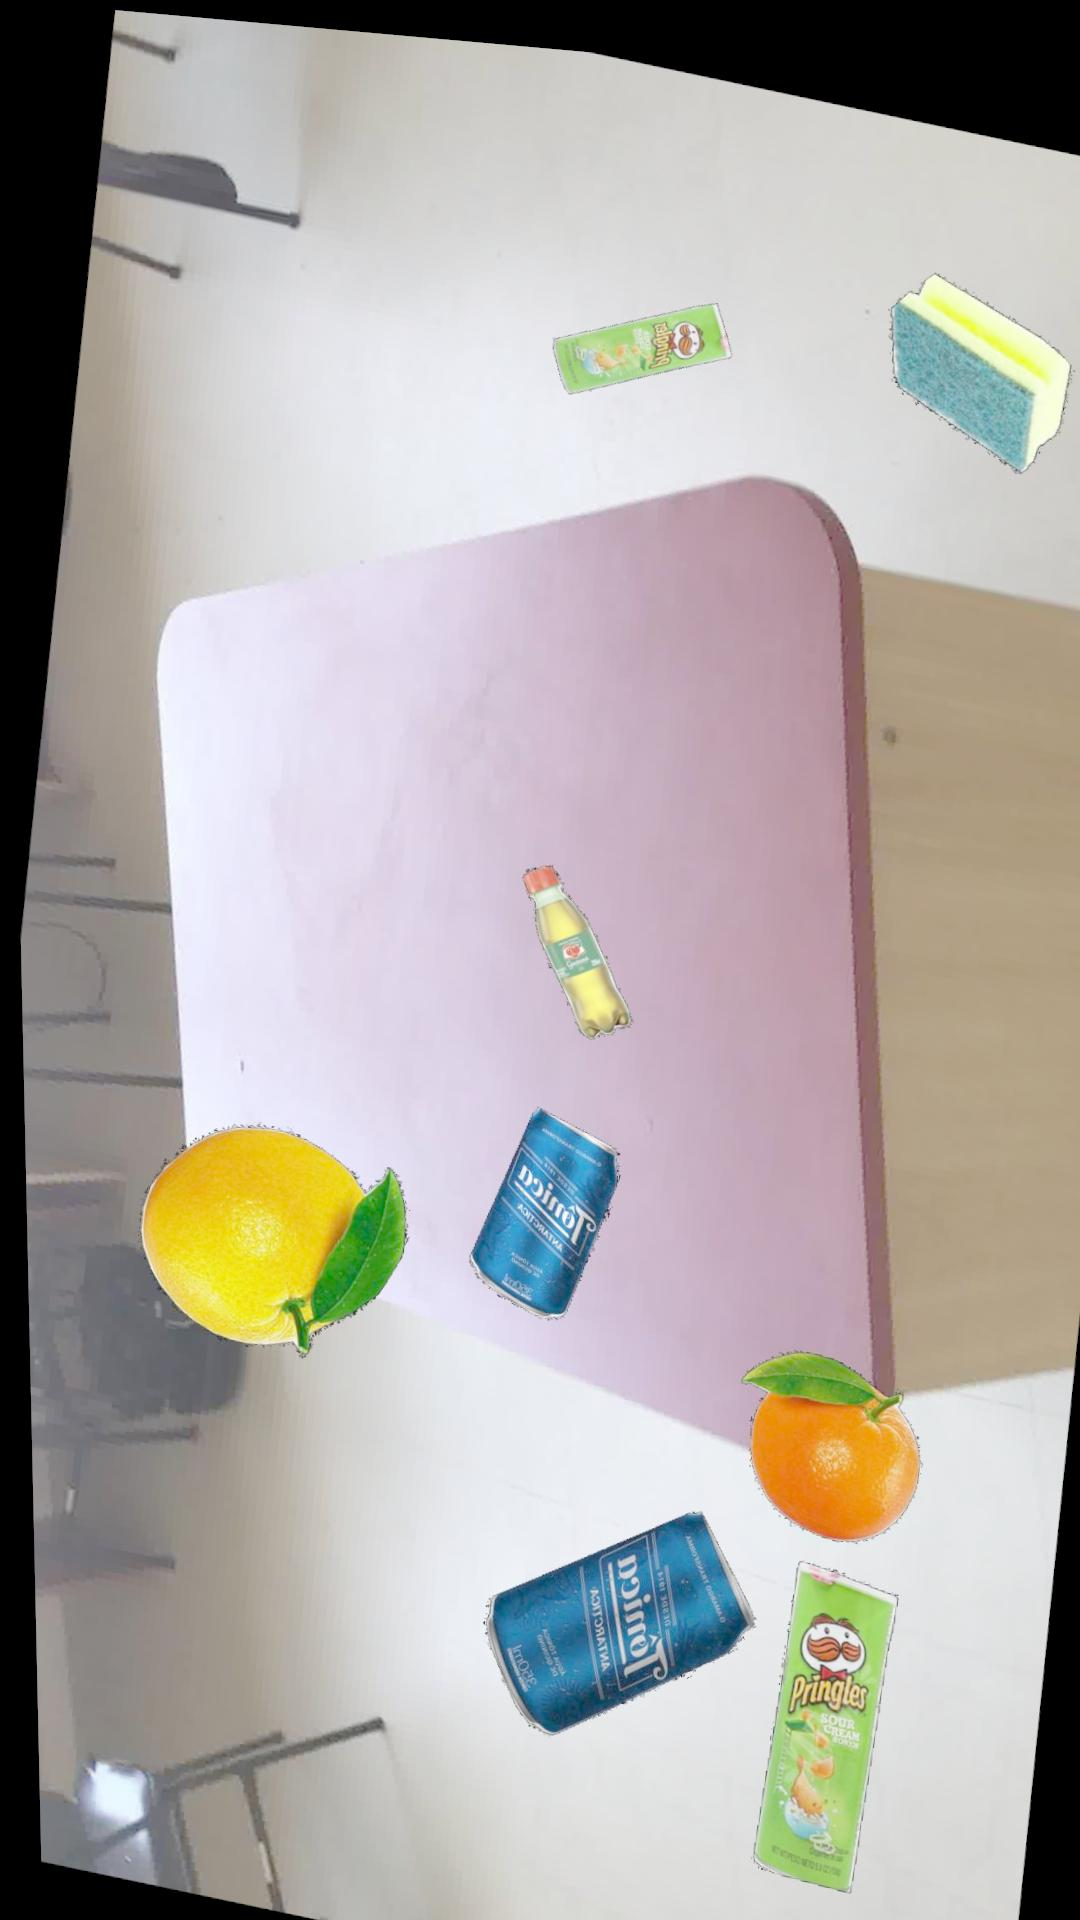guarana: (518, 853, 629, 1026)
orange: (135, 1117, 402, 1349), (736, 1333, 914, 1524)
pringles: (745, 1543, 891, 1875), (551, 287, 731, 381)
sponge: (889, 252, 1071, 451)
tonic: (477, 1495, 748, 1724), (464, 1095, 616, 1307)
